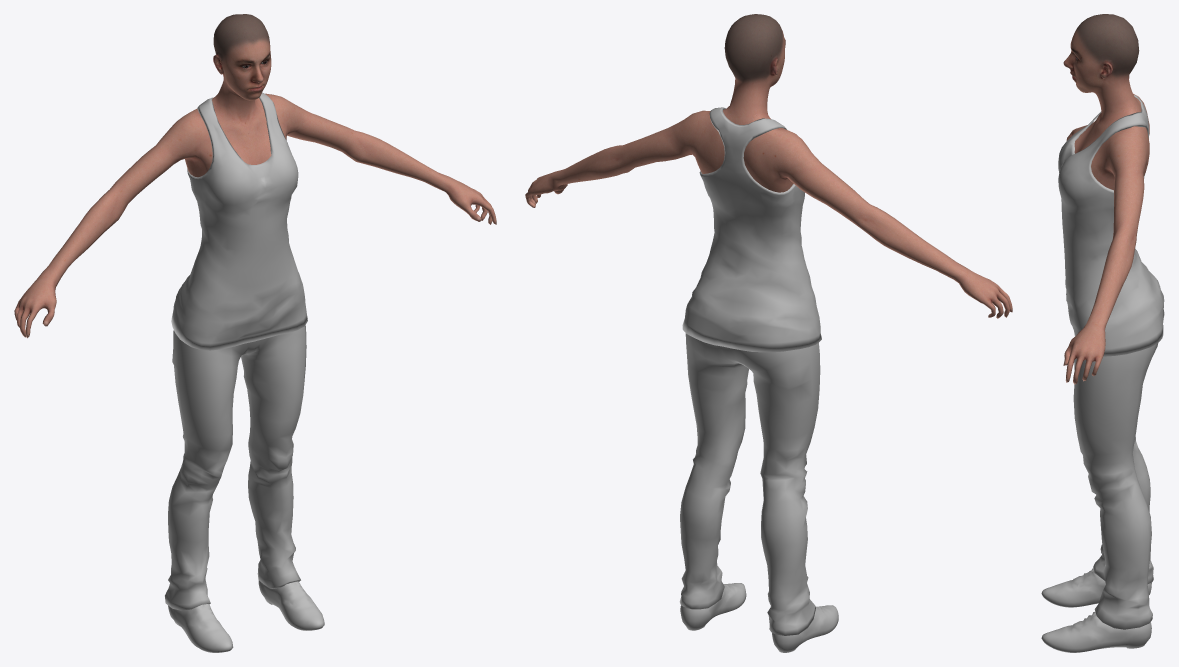
Rendered from chica.fbx.
The picture shows the model from 3 angles, left to right: view 1: azimuth 30°, elevation 25°; view 2: azimuth 150°, elevation 25°; view 3: azimuth 270°, elevation 25°; orthographic projection.
Visible parts, largest first — view 1: emily, emily.002; view 2: emily, emily.002; view 3: emily, emily.002.
Part boxes in pixels (box(x1,y1,x2,y2)): emily: box(165, 60, 324, 652); emily.002: box(14, 14, 496, 338); emily: box(679, 107, 838, 652); emily.002: box(525, 14, 1012, 318); emily: box(1041, 56, 1164, 652); emily.002: box(1063, 14, 1149, 384).
Size of the model in its own units: 1.48 by 1.82 by 0.3331.
5 materials, 4 textured.
